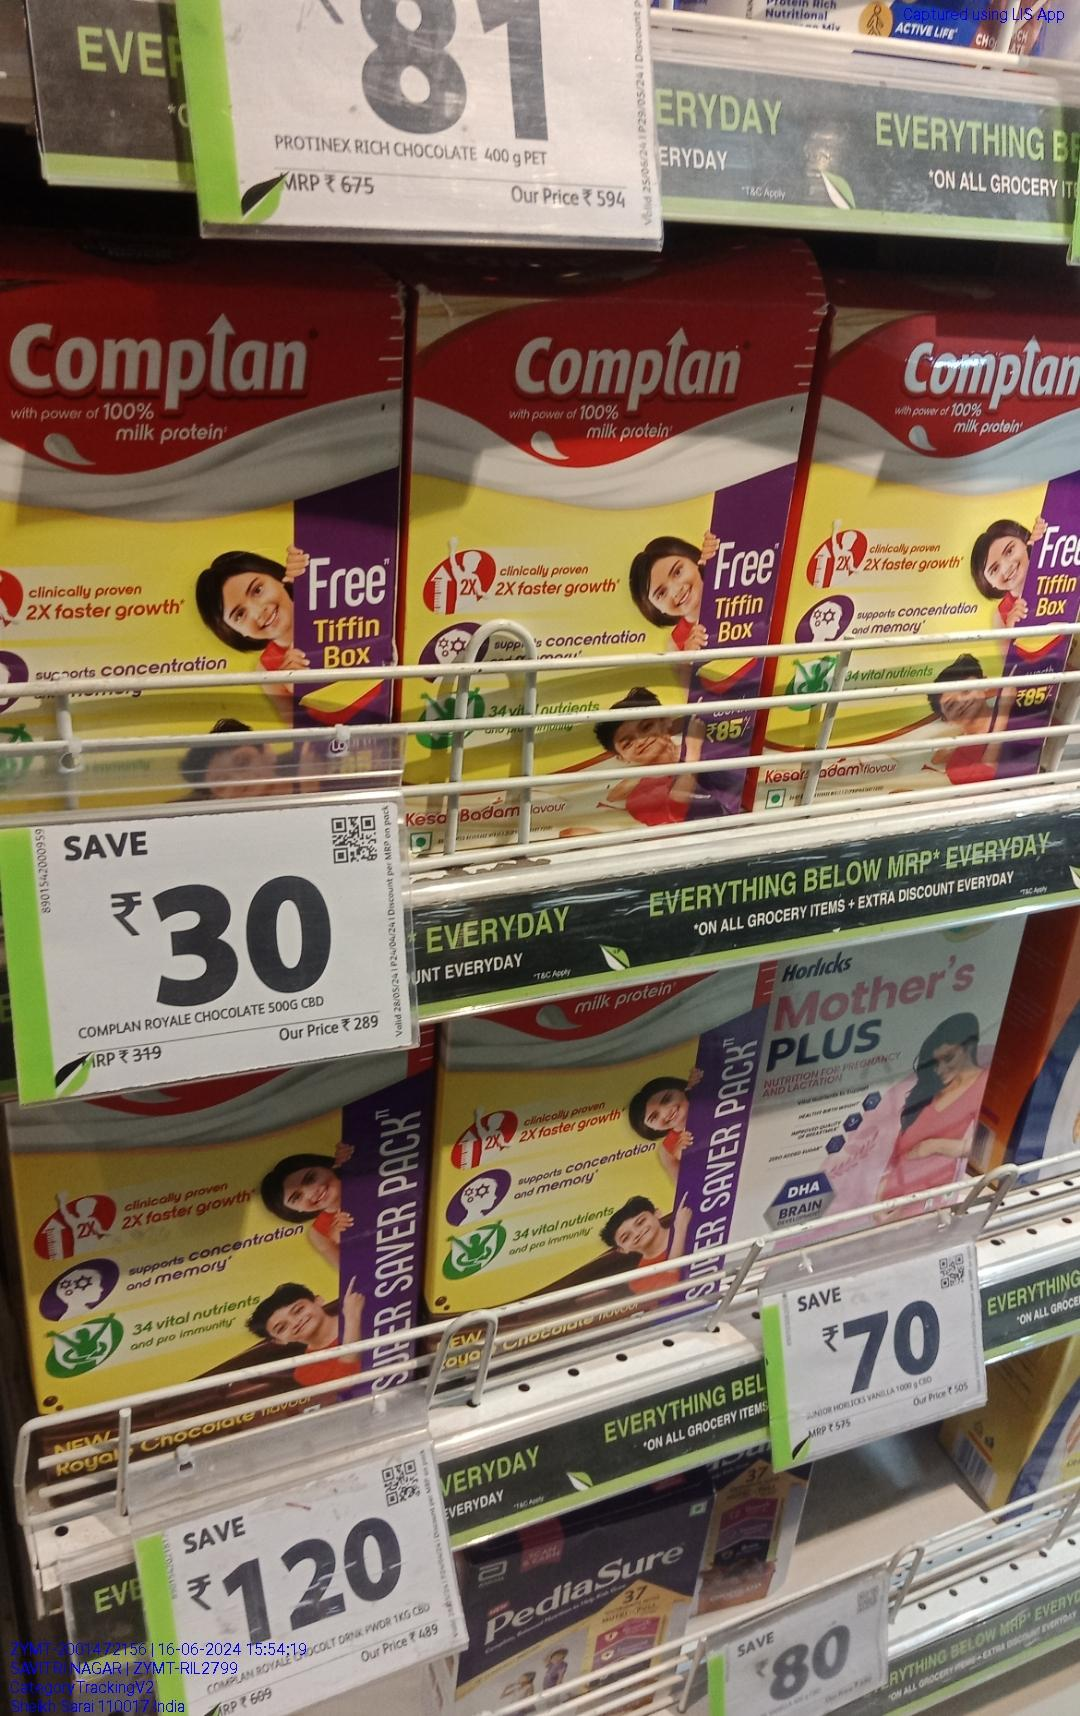COMPLAN_CHOCOLATE_1_KG_PACK: (17, 1104, 411, 1411), (428, 1010, 730, 1335)
COMPLAN_KESAR_BADAM_500_GMS_PACK: (411, 289, 768, 830), (784, 319, 1080, 813)
